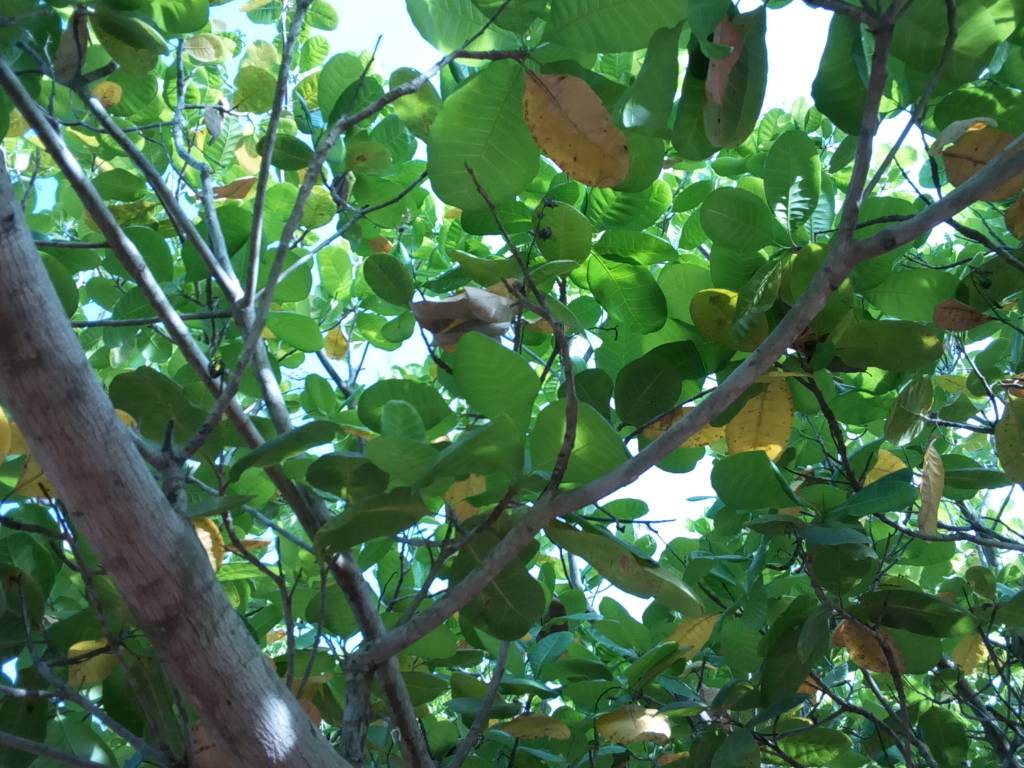Dessèchement des bourgeons: (809, 379, 872, 489), (525, 197, 559, 254)
